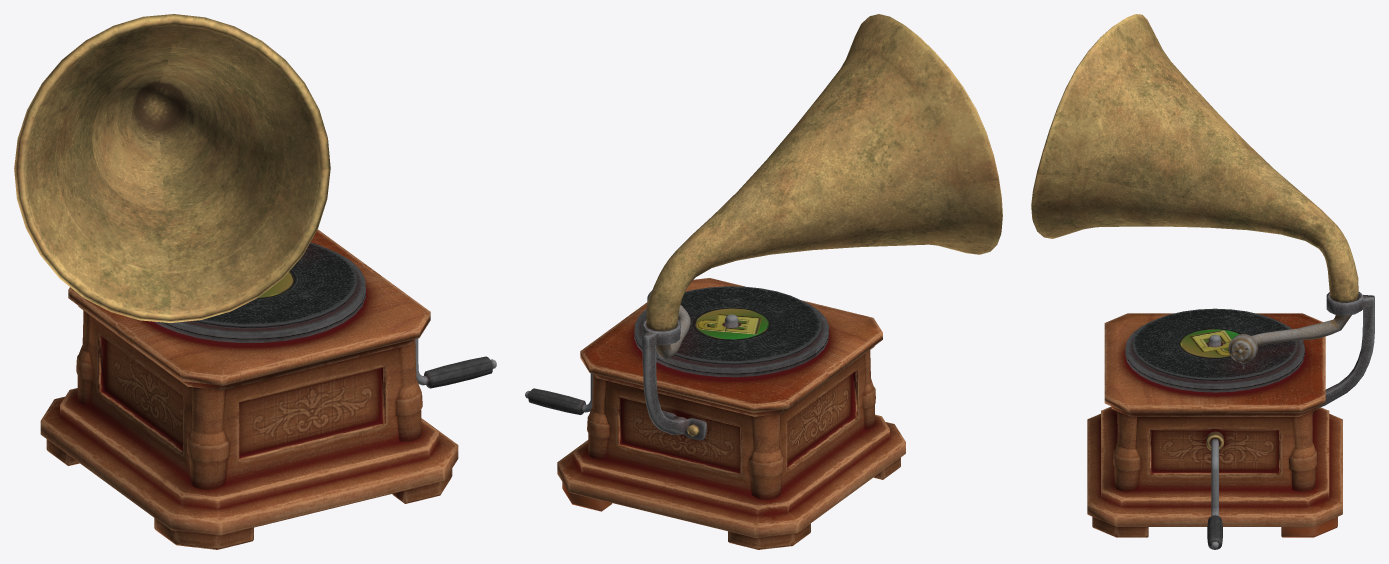
File: gramophone_LOD1.fbx
3 renders of one model, left to right at view 1: azimuth 30°, elevation 25°; view 2: azimuth 150°, elevation 25°; view 3: azimuth 270°, elevation 25°, orthographic. The views are drawn at different scales.
Visible parts, largest first — view 1: gramophone1_01; view 2: gramophone1_01; view 3: gramophone1_01.
Boxes of the visible parts, box(x1,y1,x2,y2) form: gramophone1_01: box(14, 14, 496, 549); gramophone1_01: box(525, 14, 1002, 549); gramophone1_01: box(1031, 14, 1374, 549).
Bounding box in the file's own units: 124 × 120 × 91.34.
Materials: 1 (1 with a texture image).
